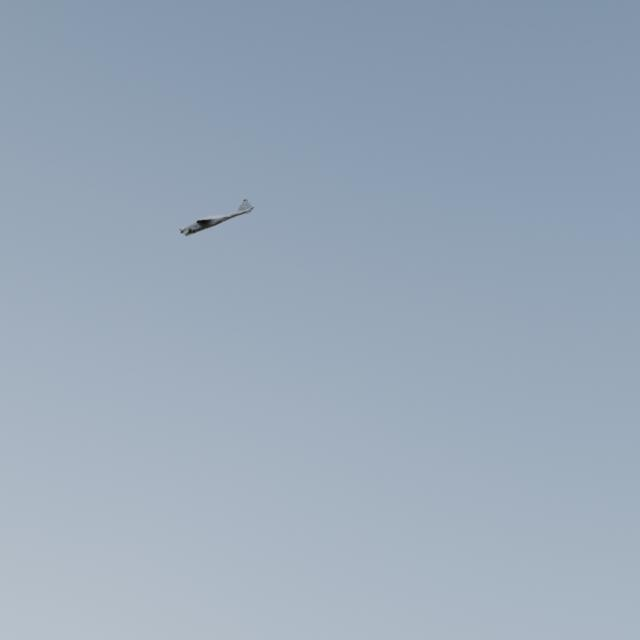Airaplan: (179, 199, 254, 237)
